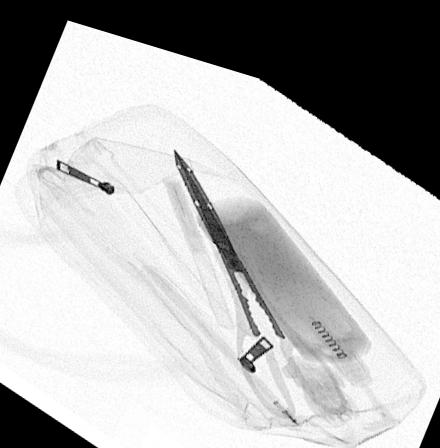Scissors: (167, 132, 354, 405)
